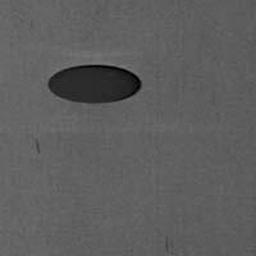Punching: (47, 64, 141, 105)
